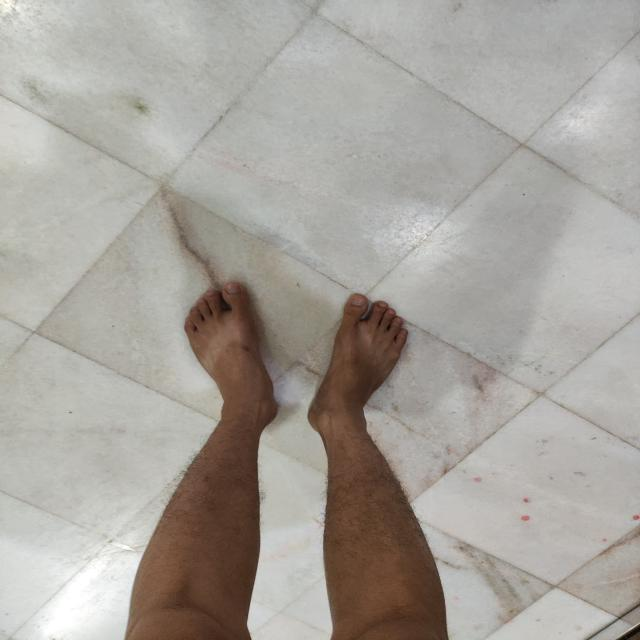No_Shoes: (155, 269, 294, 438), (314, 278, 408, 429)
